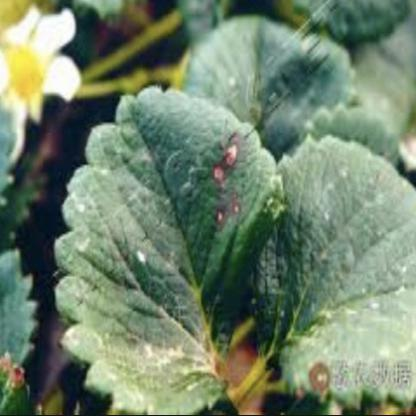Strawberry_Leaf_Spot: (53, 84, 286, 416)
